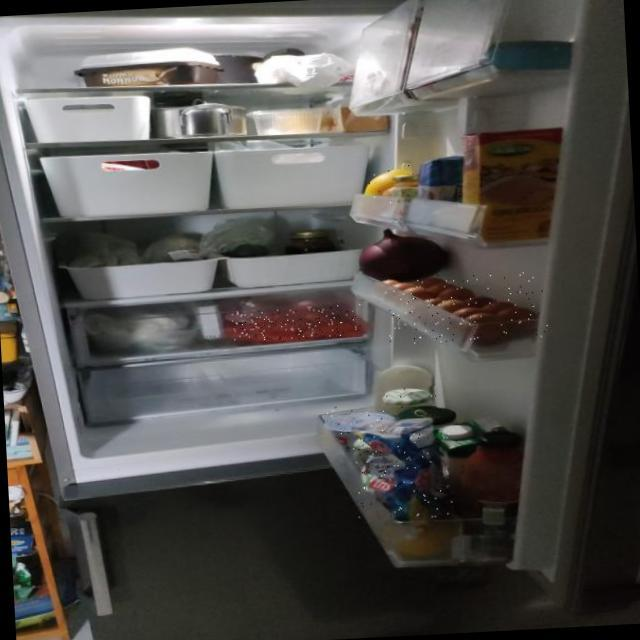Huevos: (383, 269, 550, 345)
Queso: (353, 430, 454, 521)
Yogur: (323, 401, 393, 437)
